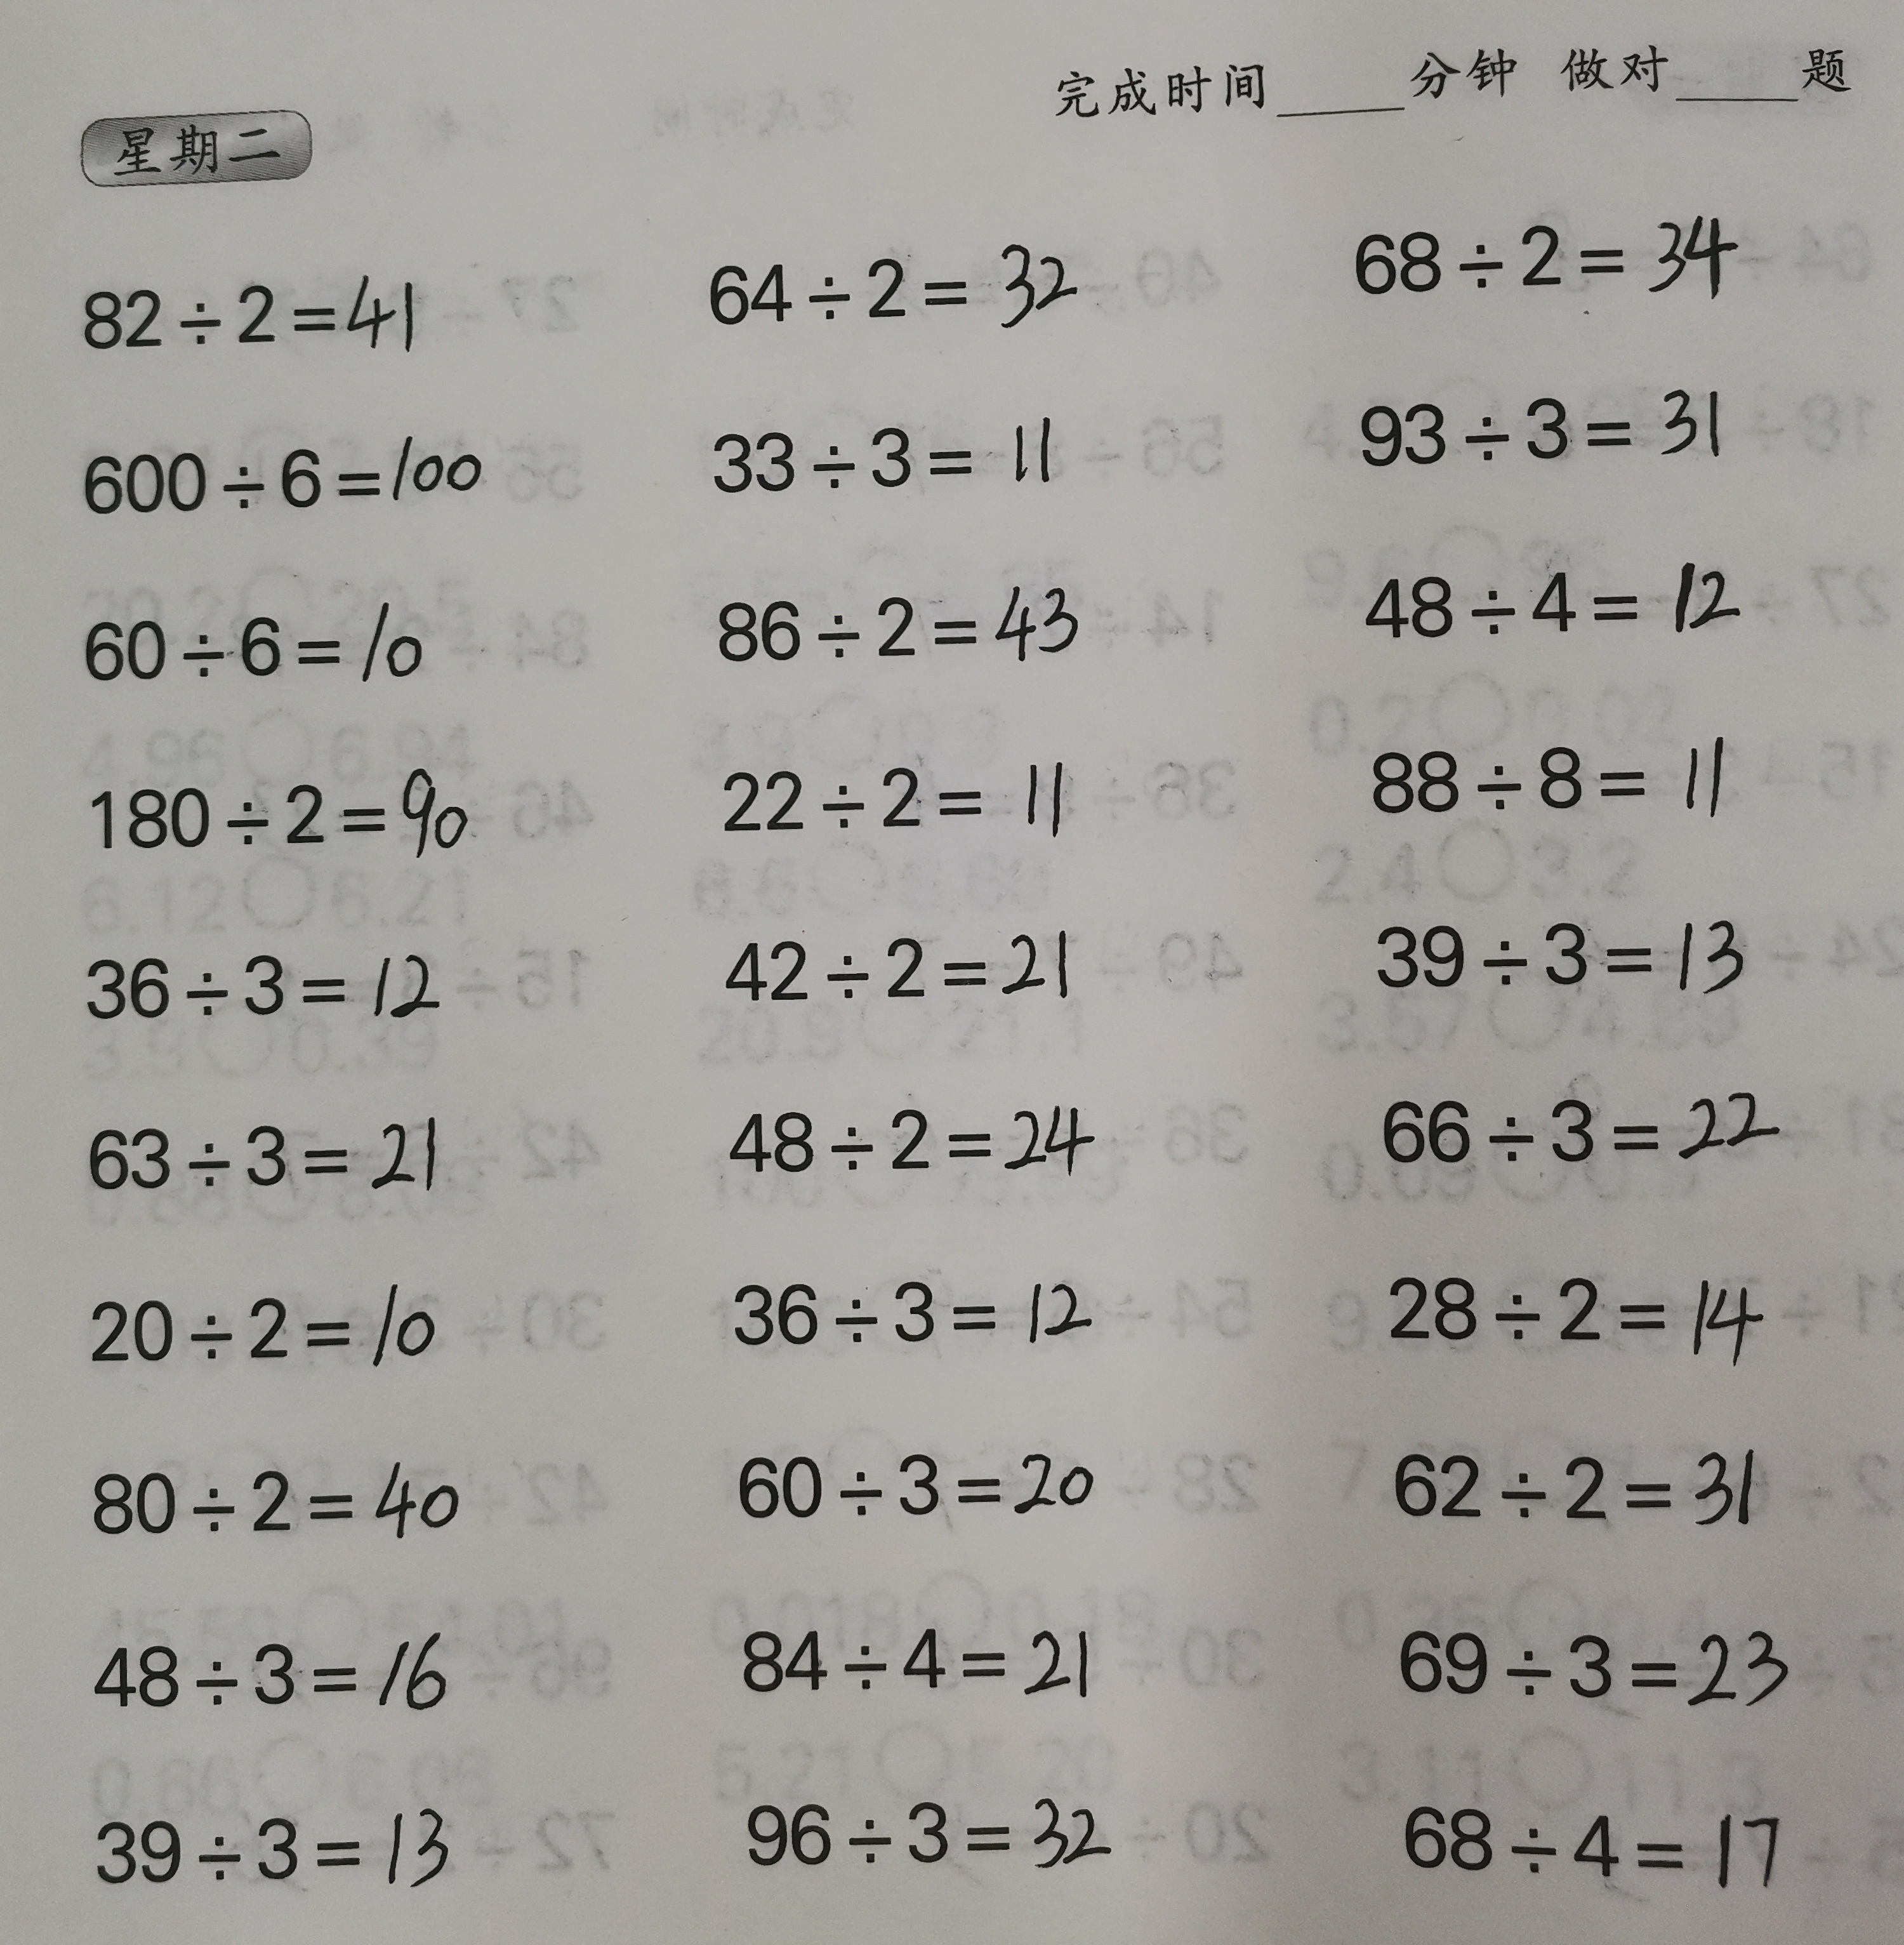equation: (1370, 1406, 1801, 1556), (1363, 1239, 1778, 1378), (1357, 884, 1780, 1017), (1334, 351, 1758, 481), (687, 215, 1112, 344), (1323, 183, 1754, 311), (1377, 1779, 1824, 1900), (73, 750, 513, 872), (1372, 1601, 1810, 1722), (670, 560, 1130, 672), (54, 1619, 478, 1739), (1362, 1059, 1789, 1174), (708, 1415, 1116, 1535), (51, 916, 479, 1029), (677, 736, 1090, 853), (70, 1785, 479, 1901), (61, 1095, 479, 1209), (696, 905, 1111, 1019), (682, 392, 1095, 506), (68, 424, 499, 532), (1339, 534, 1756, 645), (708, 1078, 1123, 1188), (1332, 710, 1747, 820), (715, 1251, 1111, 1362), (70, 1272, 459, 1385), (68, 1444, 479, 1551), (729, 1772, 1133, 1879), (722, 1605, 1114, 1710), (65, 583, 439, 691), (70, 249, 438, 358)
